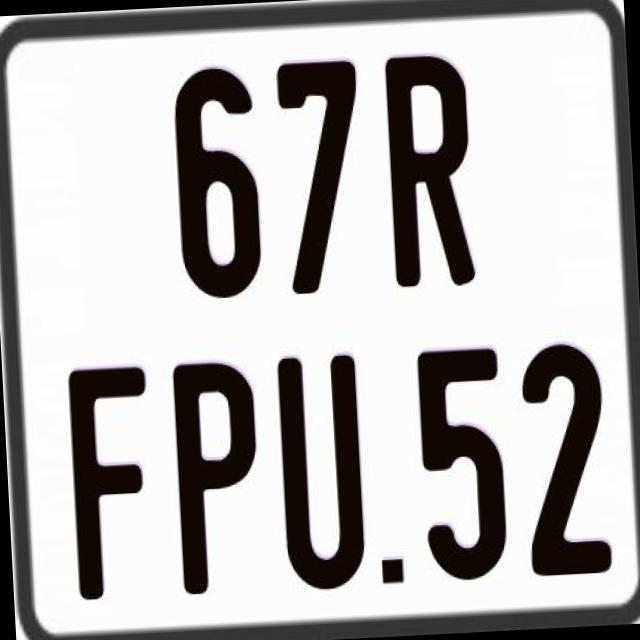2: (520, 342, 620, 582)
5: (412, 345, 504, 587)
6: (171, 62, 261, 296)
7: (272, 57, 366, 292)
F: (67, 361, 161, 597)
P: (169, 358, 263, 602)
R: (386, 54, 478, 288)
U: (276, 353, 366, 597)
